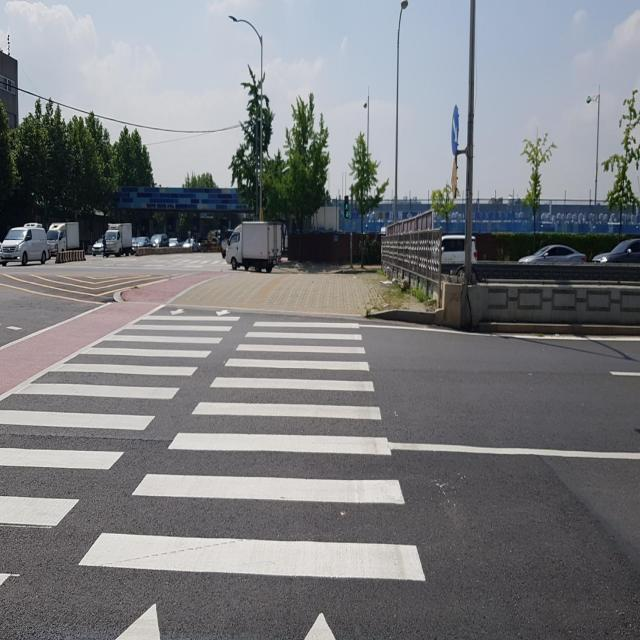횡단보도: (0, 308, 426, 640)
